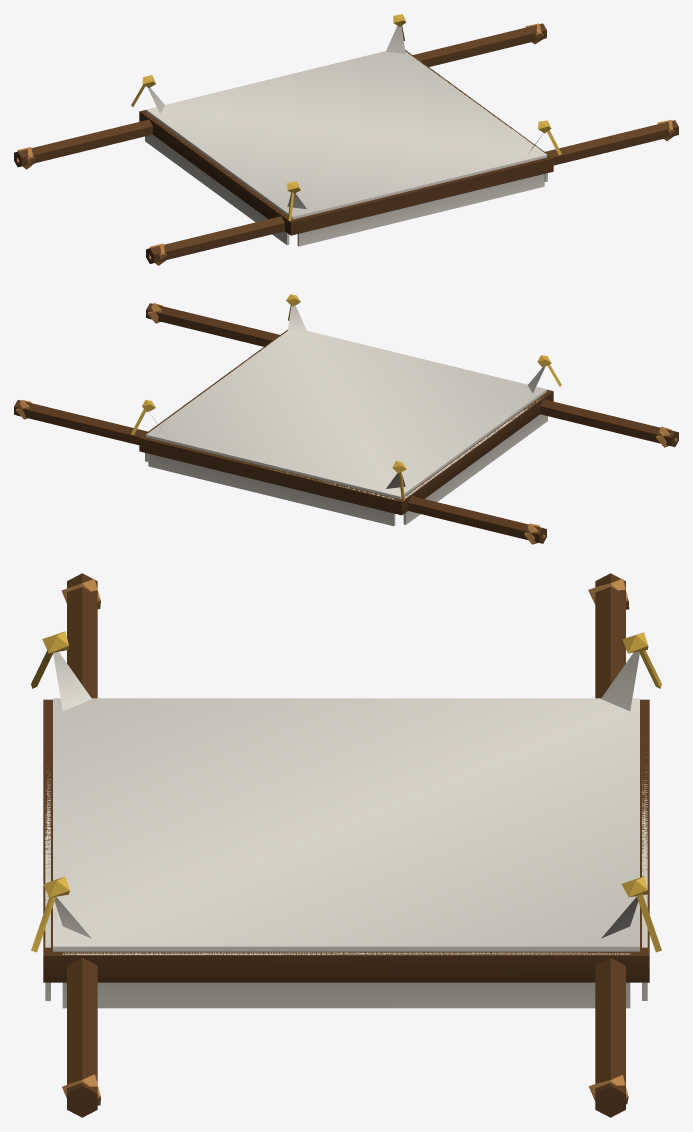
3 renders of one model, top to bottom at view 1: azimuth 30°, elevation 25°; view 2: azimuth 150°, elevation 25°; view 3: azimuth 270°, elevation 25°, orthographic. The views are drawn at different scales.
Visible parts, largest first — view 1: base; view 2: base; view 3: base.
Boxes of the visible parts, x1,y1,x2,y2 form: base: (14, 14, 678, 265); base: (14, 294, 678, 544); base: (31, 573, 661, 1117).
Size of the model in its own units: 1.24 by 0.1428 by 0.645.
